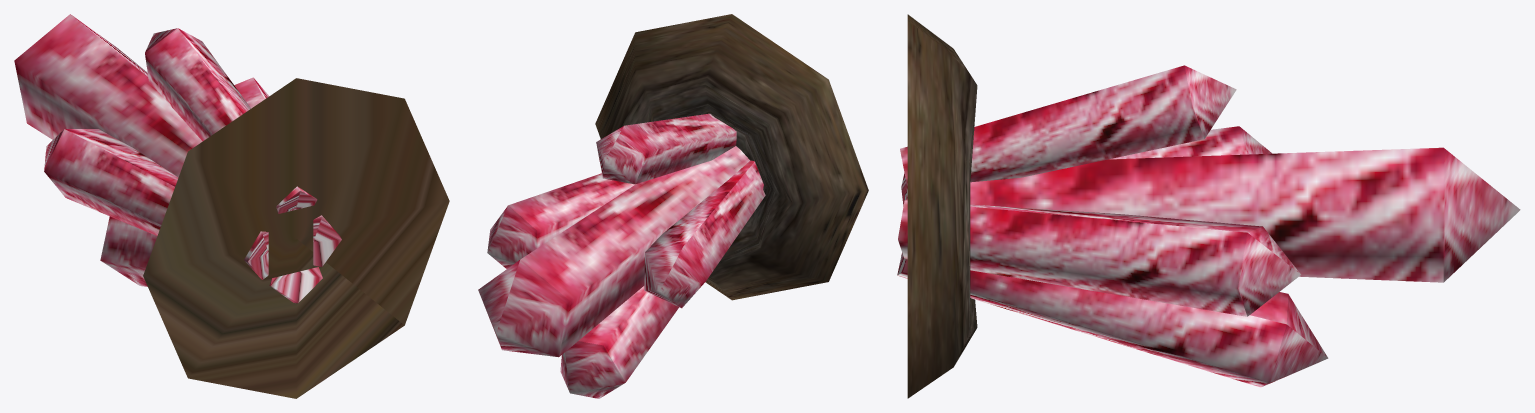
Rendered from crdan_2.FBX.
The picture shows the model from 3 angles, left to right: view 1: azimuth 30°, elevation 25°; view 2: azimuth 150°, elevation 25°; view 3: azimuth 270°, elevation 25°; orthographic projection. The views are drawn at different scales.
Visible parts, largest first — view 1: Box001; view 2: Box001; view 3: Box001.
Part boxes in pixels (x1=…): Box001: x1=14, y1=14, x2=449, y2=398; Box001: x1=478, y1=14, x2=868, y2=398; Box001: x1=897, y1=14, x2=1520, y2=398.
Size of the model in its own units: 0.0542 by 0.0542 by 0.0826.
